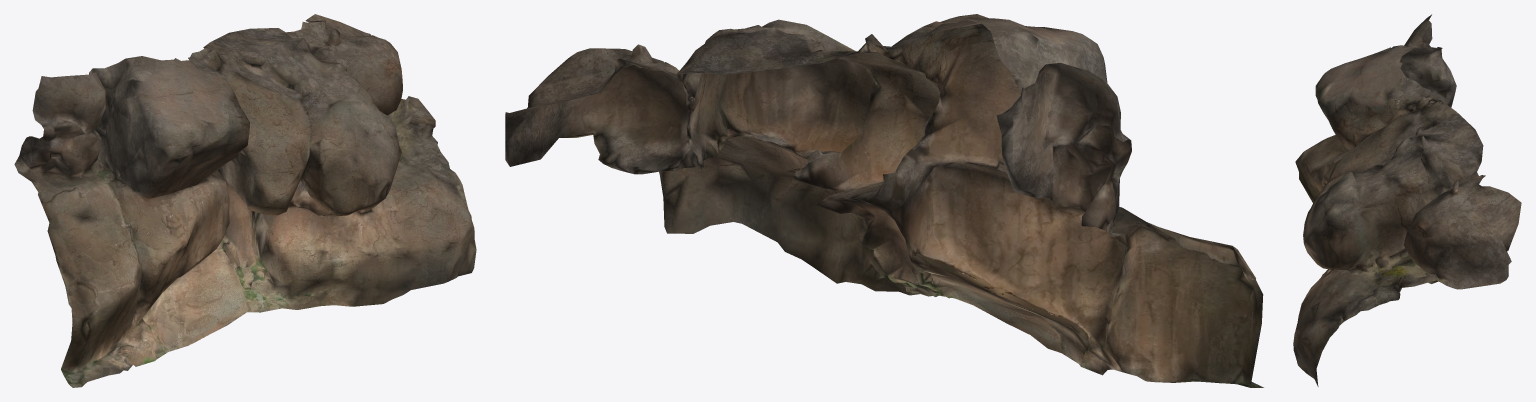
The model's file is cliff1.glb.
3 renders of one model, left to right at view 1: azimuth 30°, elevation 25°; view 2: azimuth 150°, elevation 25°; view 3: azimuth 270°, elevation 25°, orthographic. The views are drawn at different scales.
Parts seen in each view (by area): view 1: drone_rock_01; view 2: drone_rock_01; view 3: drone_rock_01.
Part boxes in pixels (x1,y1,x2,y2): drone_rock_01: (14, 14, 476, 387); drone_rock_01: (505, 14, 1263, 387); drone_rock_01: (1293, 14, 1521, 386).
Size of the model in its own units: 8.28 by 4.96 by 4.38.
1 material, 1 textured.
